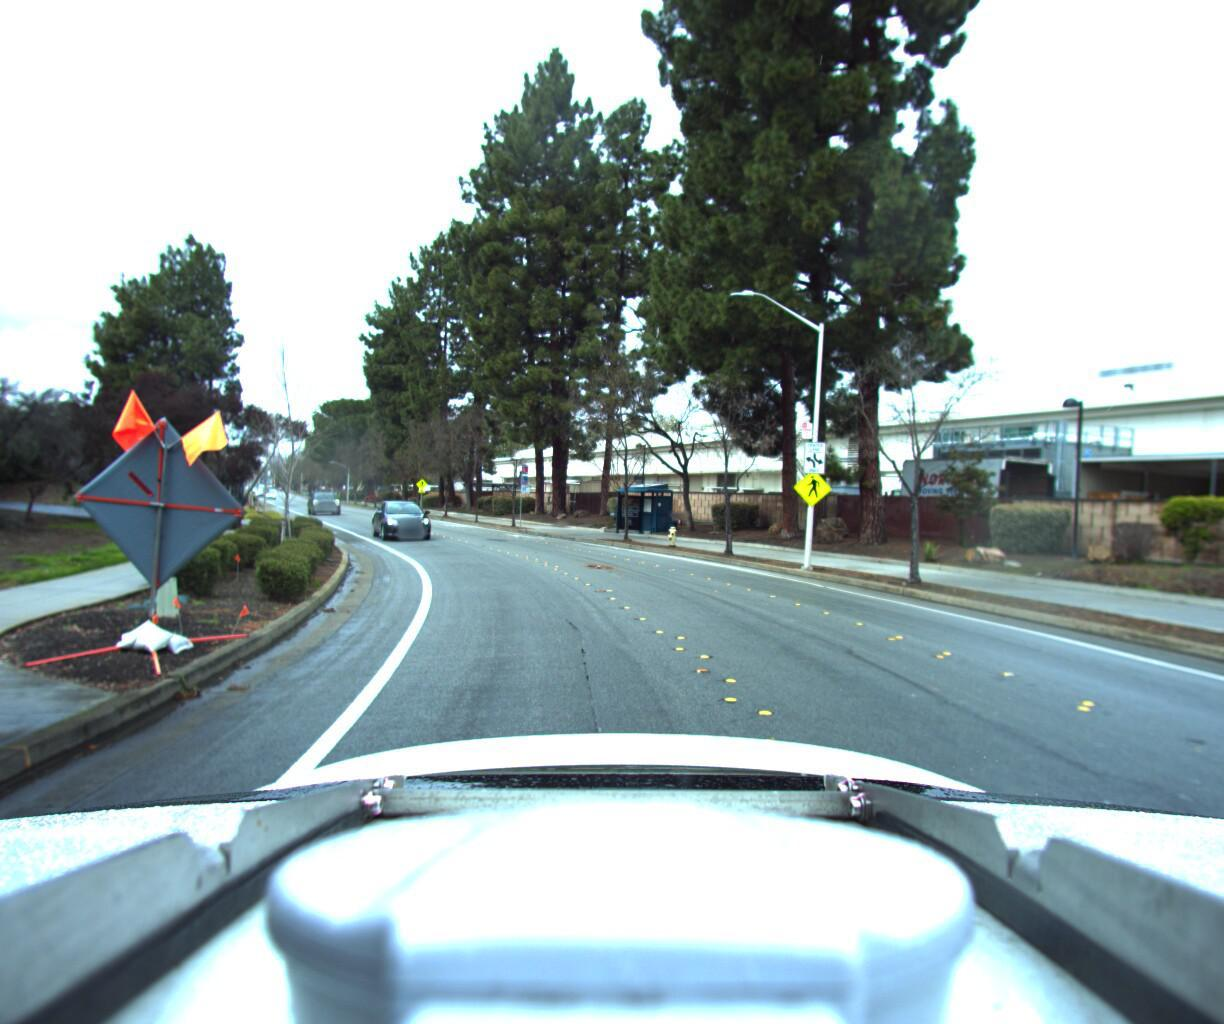car: (363, 493, 429, 540), (303, 487, 336, 511)
truck: (873, 445, 1062, 535)
